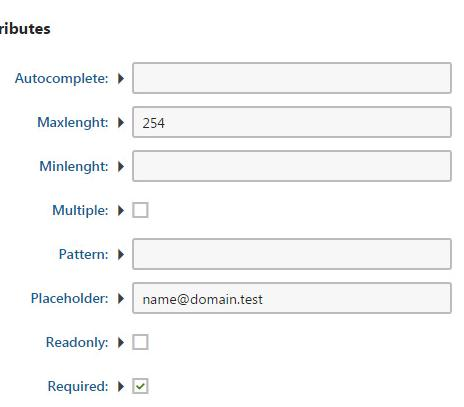checkbox: (127, 329, 151, 354), (128, 375, 149, 396), (130, 198, 150, 220)
checkbox_with_label: (45, 326, 154, 357), (45, 372, 151, 399), (50, 195, 155, 222)
field: (128, 59, 451, 96), (130, 148, 452, 185), (129, 236, 453, 272), (128, 280, 452, 315), (128, 105, 453, 137)
field_with_label: (16, 56, 454, 98), (40, 146, 455, 187), (31, 279, 454, 318), (36, 103, 457, 140), (58, 234, 456, 273)
